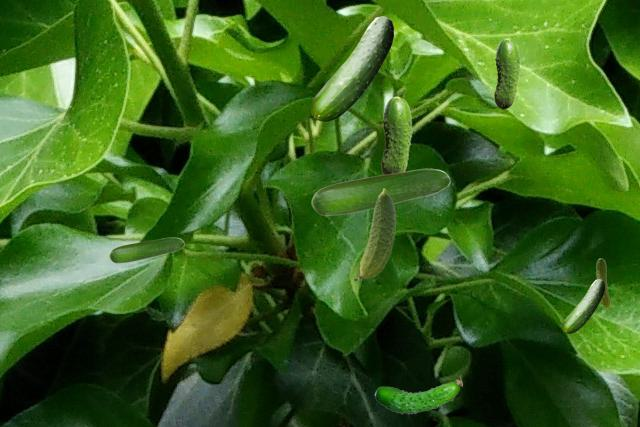cucumber: (311, 16, 392, 120), (311, 168, 449, 215), (354, 188, 395, 279), (374, 375, 461, 413), (381, 96, 411, 173), (562, 279, 603, 332), (109, 237, 183, 262), (494, 38, 519, 108), (596, 258, 609, 307)
